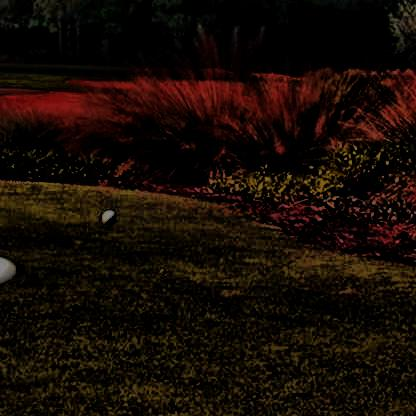golfball: (99, 206, 114, 222)
